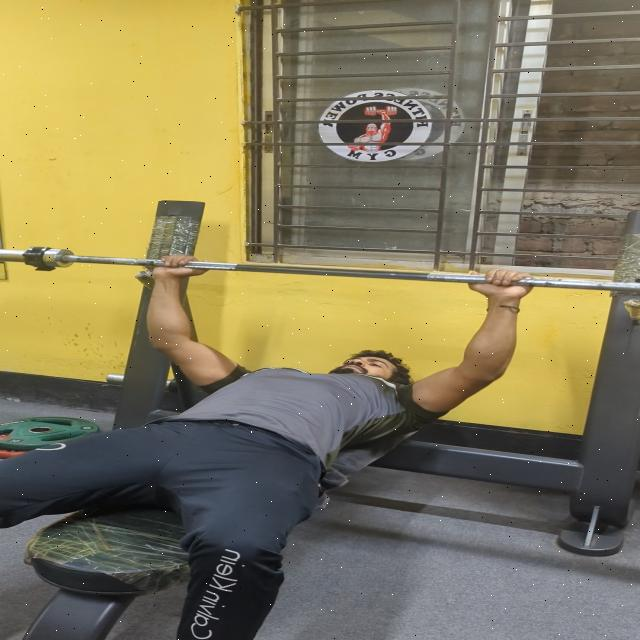Normal_BrenchPress: (0, 220, 633, 630)
